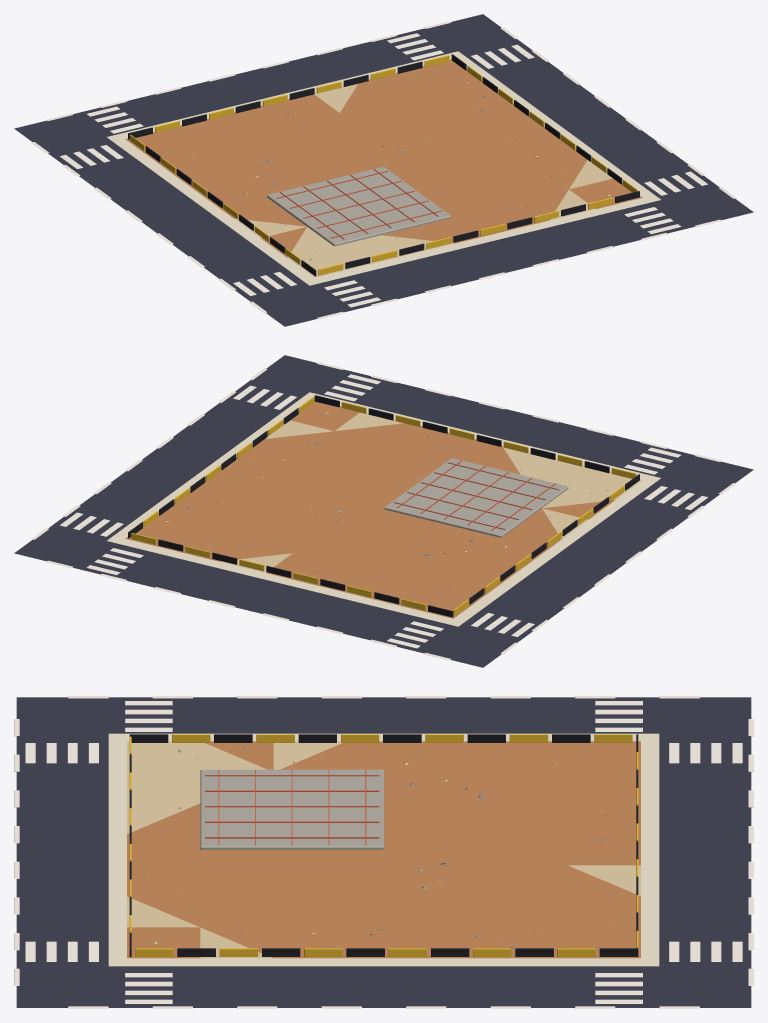
Rendered from tile_construction.glb.
The picture shows the model from 3 angles, top to bottom: view 1: azimuth 30°, elevation 25°; view 2: azimuth 150°, elevation 25°; view 3: azimuth 270°, elevation 25°; orthographic projection. The views are drawn at different scales.
Parts seen in each view (by area): view 1: tile_construction; view 2: tile_construction; view 3: tile_construction.
Part boxes in pixels (<box>): tile_construction: <box>14,14,753,326</box>; tile_construction: <box>14,355,753,667</box>; tile_construction: <box>14,696,753,1008</box>.
Size of the model in its own units: 40.3 by 0.6691 by 40.3.
Materials: 1 (1 with a texture image).
